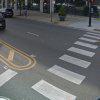Crosswalk: (50, 22, 94, 99)
